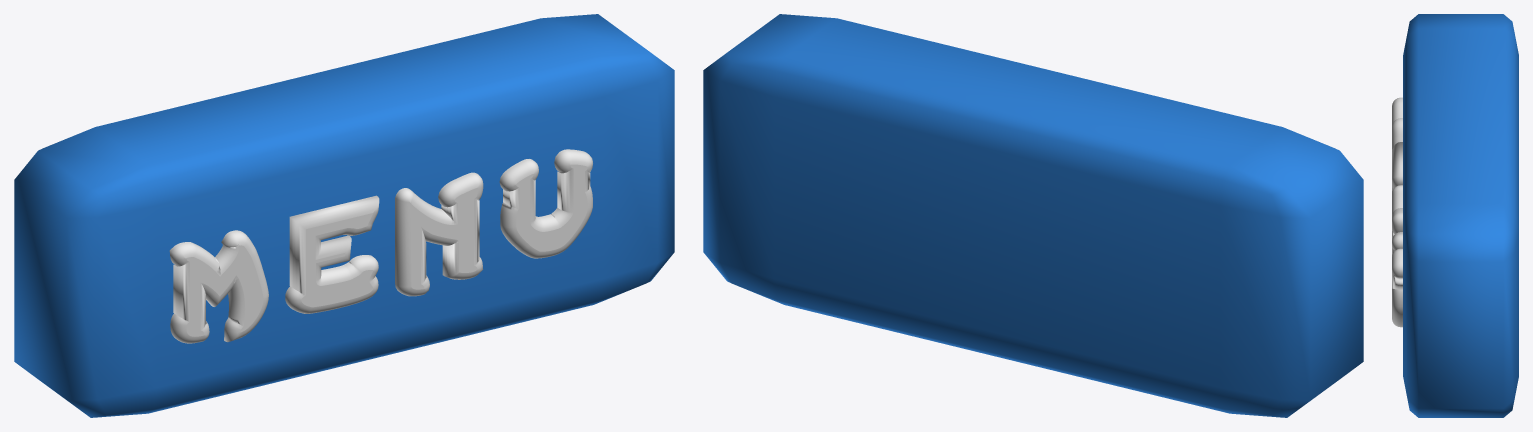
The model's file is Botonmenu (1).fbx.
3 renders of one model, left to right at view 1: azimuth 30°, elevation 25°; view 2: azimuth 150°, elevation 25°; view 3: azimuth 270°, elevation 25°, orthographic. The views are drawn at different scales.
Visible parts, largest first — view 1: menu, Menutext; view 2: menu; view 3: menu, Menutext.
Boxes of the visible parts, bbox=[...] form: menu: bbox=[14, 14, 674, 417]; Menutext: bbox=[169, 149, 592, 343]; menu: bbox=[703, 14, 1363, 417]; menu: bbox=[1403, 14, 1518, 417]; Menutext: bbox=[1392, 97, 1402, 327].
Bounding box in the file's own units: 513 × 200 × 115.
